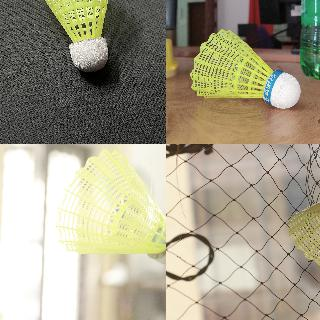shuttlecock: (55, 149, 165, 266), (190, 30, 300, 109), (31, 0, 116, 72), (288, 171, 319, 274)
